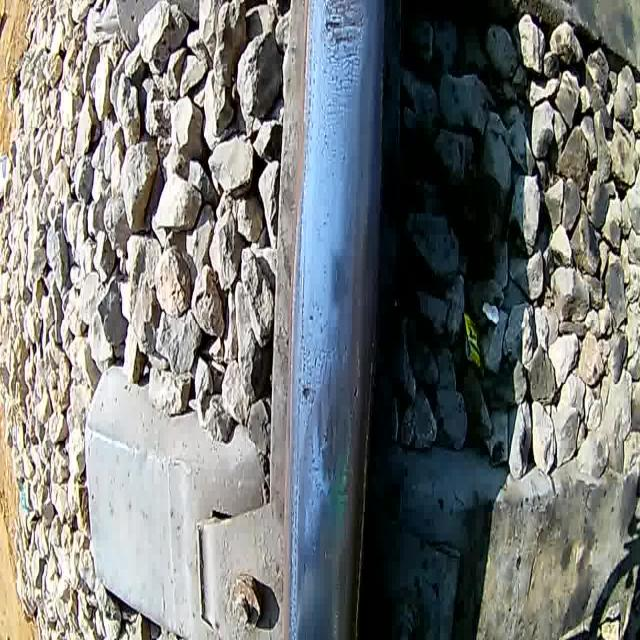Spallings: (297, 374, 318, 408)
Squats: (300, 346, 365, 507), (319, 0, 370, 52)
